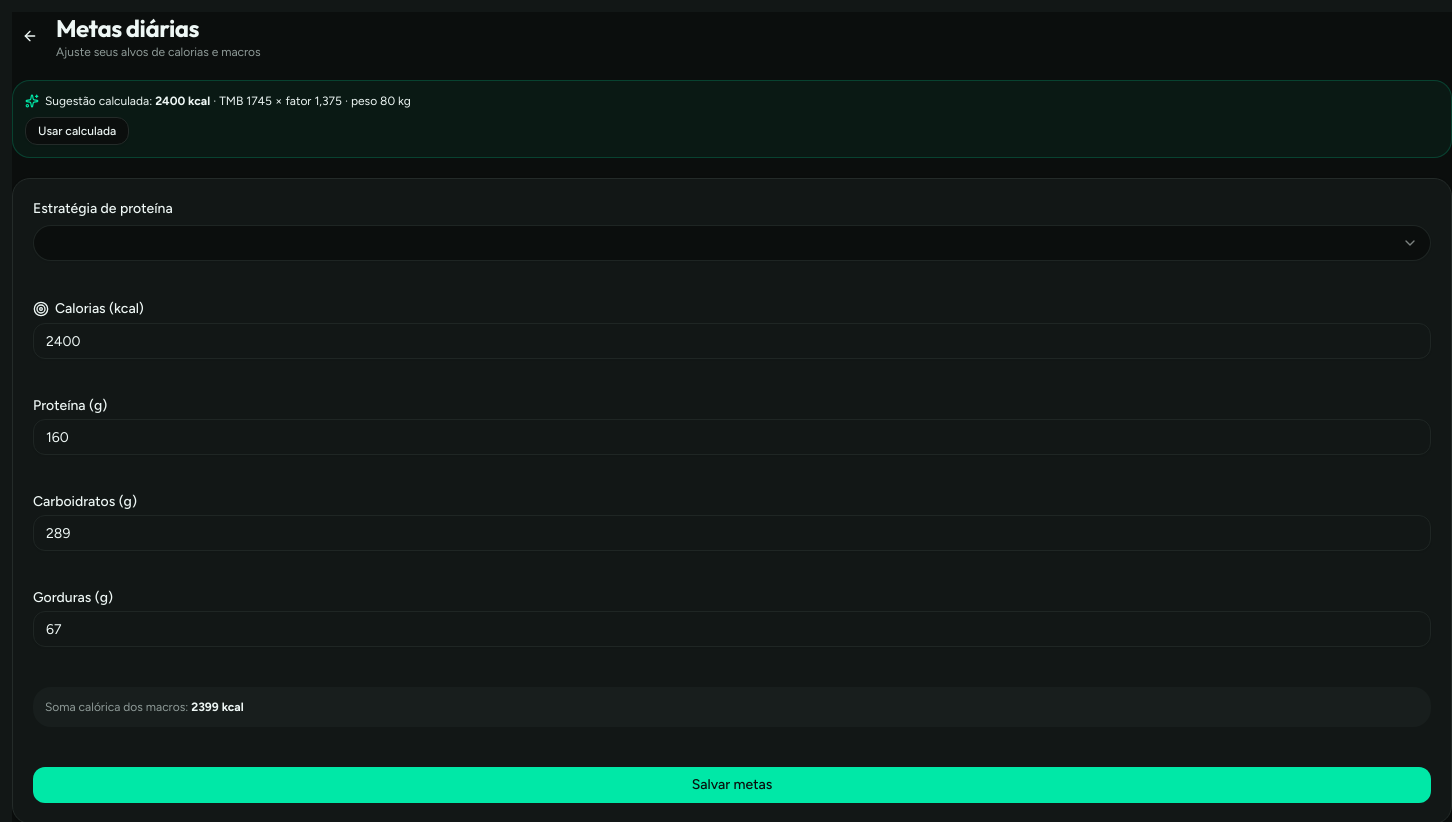
Test case: GoalsPage — integração (supabase mock + calculateTdee mock) › altera a estratégia de proteína recalcula os macros sugeridos
Expected: the number field showing "2400" below "Calorias (kcal)" is shown, [33,323,1431,359]
// Abre o select
Click the dropdown named "Estratégia de proteína": (1410, 243) [33,225,1431,261]
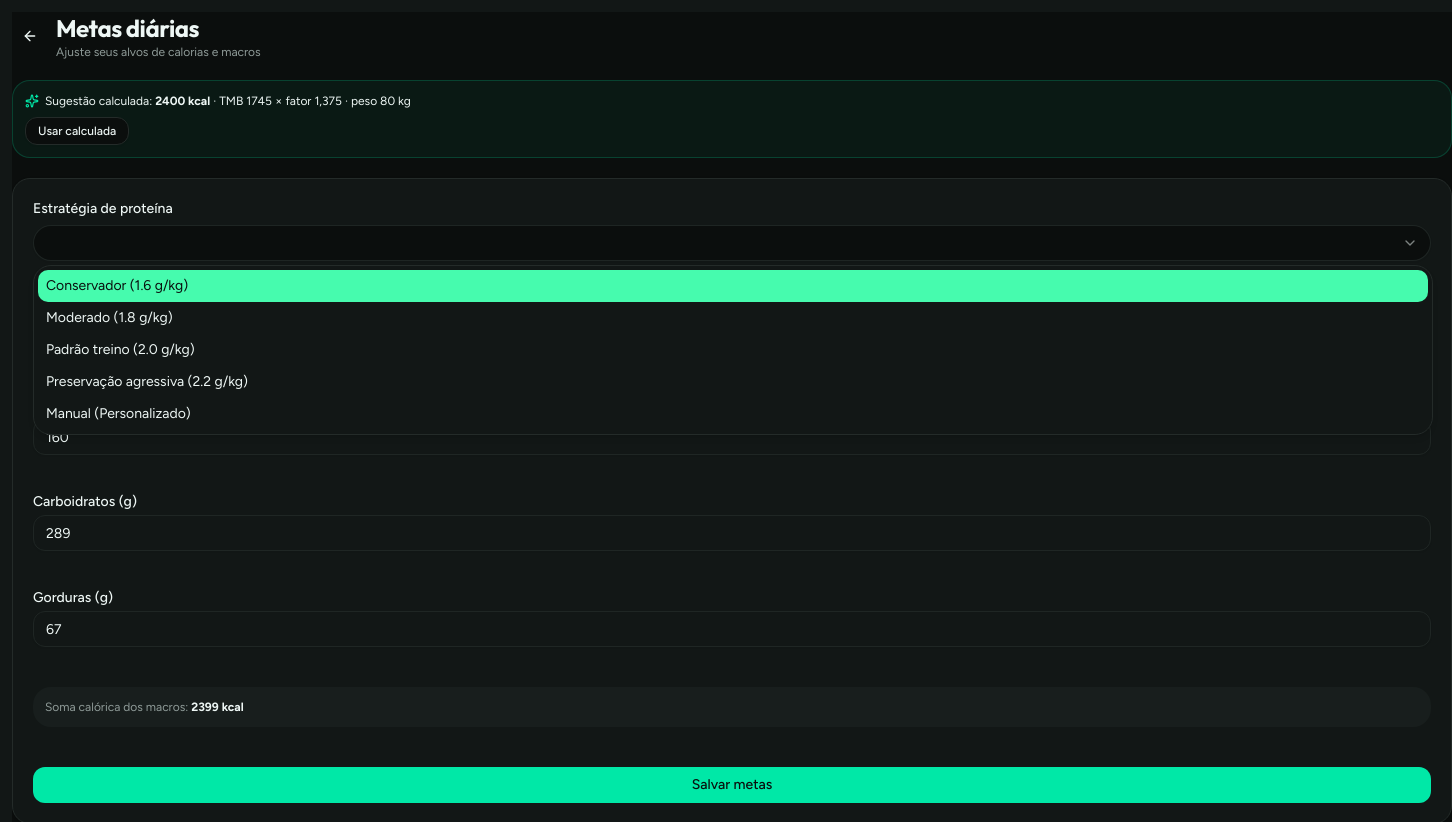
// Seleciona Conservador (1.6 g/kg)
Click the option "Conservador (1.6 g/kg)": (117, 286) [38,270,1428,302]
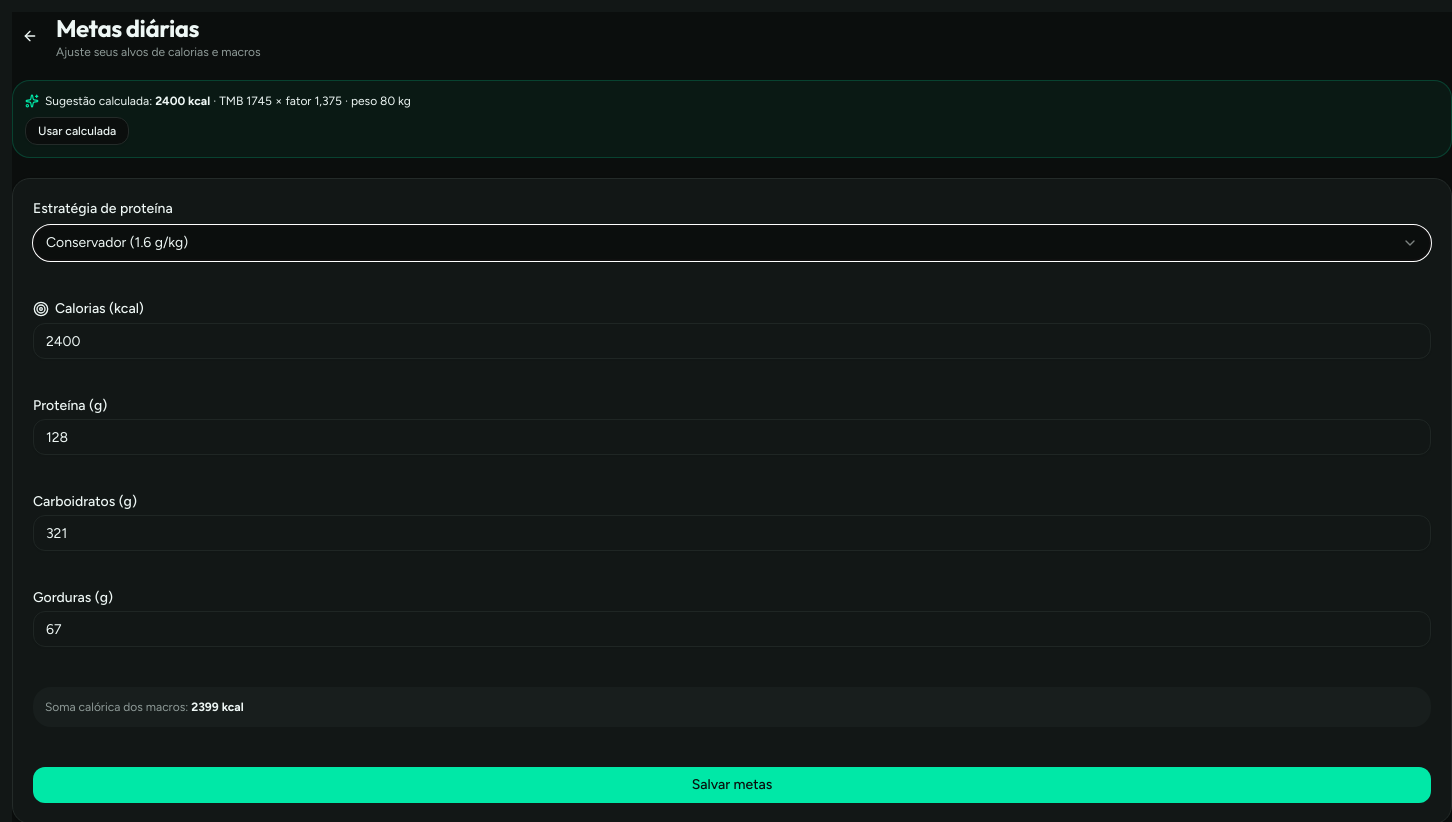
Expected: the number field showing "67" below "Gorduras (g)" is shown, [33,611,1431,647]
Expected: the number field showing "128" below "Proteína (g)" is shown, [33,419,1431,455]
Expected: the number field showing "321" below "Carboidratos (g)" is shown, [33,515,1431,551]
